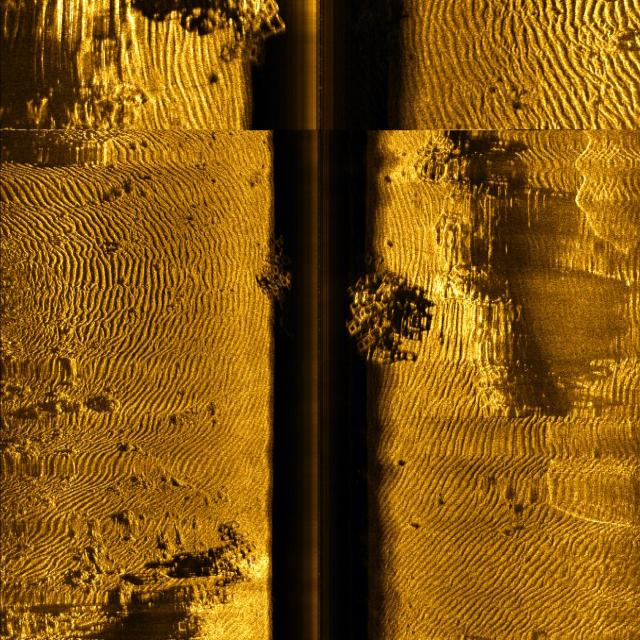artificial reef: (342, 242, 420, 366), (260, 228, 314, 329), (211, 0, 289, 57)
